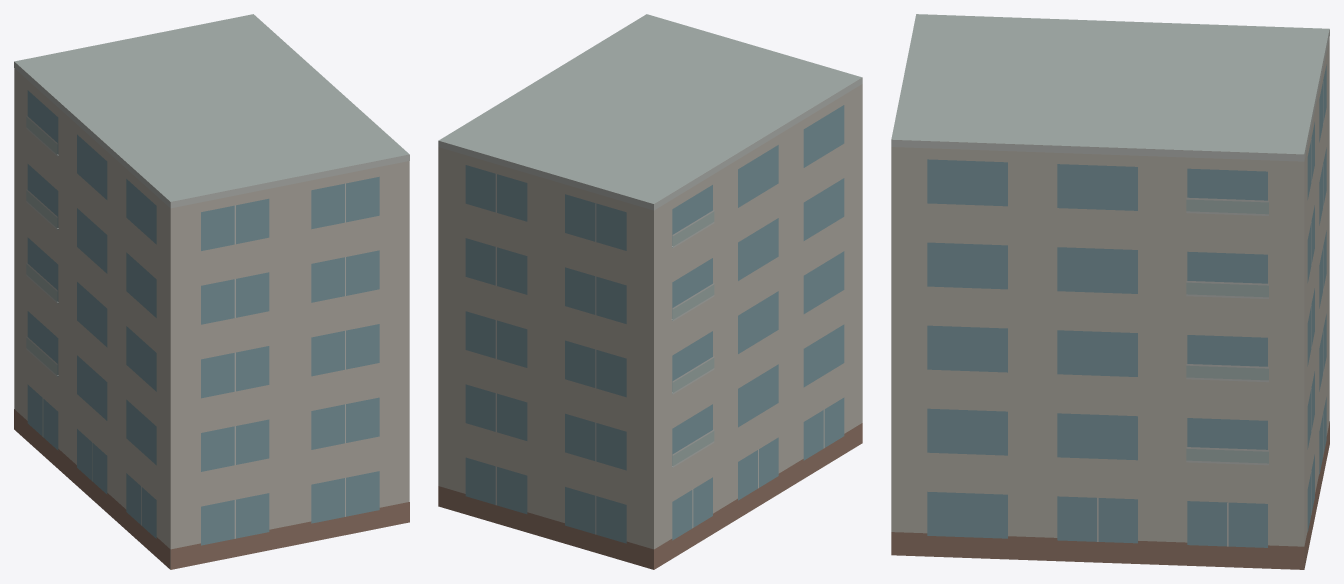
Rendered from survey-upis-32528246.glb.
3 views of the same model, side by side, from view 1: azimuth 30°, elevation 25°; view 2: azimuth 150°, elevation 25°; view 3: azimuth 270°, elevation 25° (orthographic). The views are drawn at different scales.
Parts seen in each view (by area): view 1: survey-upis-32528246.tmp; view 2: survey-upis-32528246.tmp; view 3: survey-upis-32528246.tmp.
Boxes of the visible parts, box(x1,y1,x2,y2) form: survey-upis-32528246.tmp: box(14, 14, 409, 569); survey-upis-32528246.tmp: box(438, 14, 862, 569); survey-upis-32528246.tmp: box(891, 14, 1329, 569).
Size of the model in its own units: 10.08 by 13.9 by 13.31.
